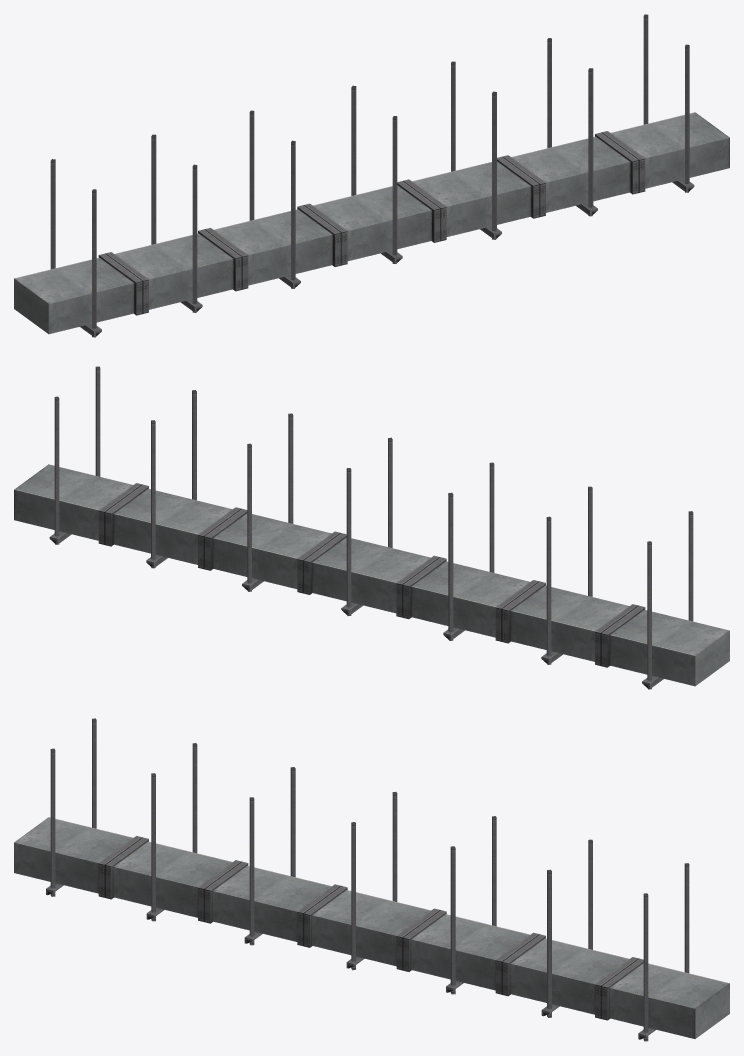
Rendered from Ventilation_pipe_B.FBX.
3 views of the same model, one above another, from view 1: azimuth 30°, elevation 25°; view 2: azimuth 150°, elevation 25°; view 3: azimuth 330°, elevation 25° (orthographic).
Parts seen in each view (by area): view 1: Ventilation_pipe_B; view 2: Ventilation_pipe_B; view 3: Ventilation_pipe_B.
Boxes of the visible parts, x1=… form: Ventilation_pipe_B: x1=14, y1=14, x2=729, y2=337; Ventilation_pipe_B: x1=14, y1=366, x2=729, y2=689; Ventilation_pipe_B: x1=14, y1=718, x2=729, y2=1041.
Bounding box in the file's own units: 542 × 66.26 × 111.
1 material, 1 textured.
